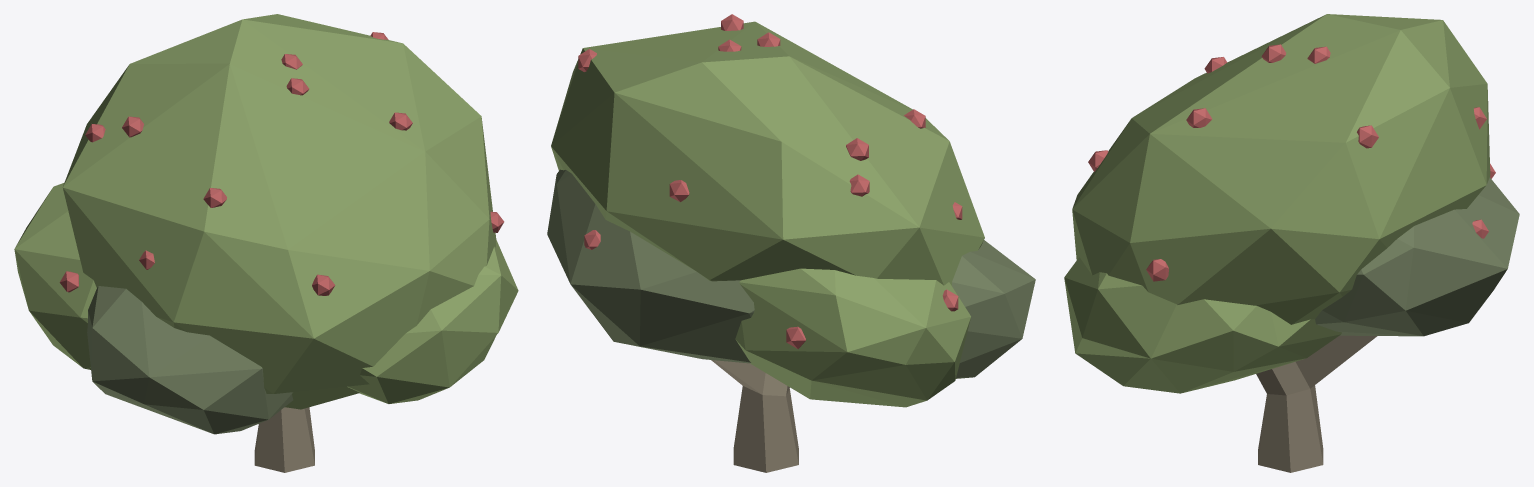
The model's file is bush_2.fbx.
3 views of the same model, side by side, from view 1: azimuth 30°, elevation 25°; view 2: azimuth 150°, elevation 25°; view 3: azimuth 270°, elevation 25° (orthographic). The views are drawn at different scales.
Parts seen in each view (by area): view 1: pPlatonic15; view 2: pPlatonic15; view 3: pPlatonic15.
Part boxes in pixels (bbox=[...]): pPlatonic15: bbox=[14, 14, 518, 472]; pPlatonic15: bbox=[547, 14, 1035, 472]; pPlatonic15: bbox=[1064, 14, 1519, 472].
Size of the model in its own units: 1.37 by 1.3 by 1.24.
